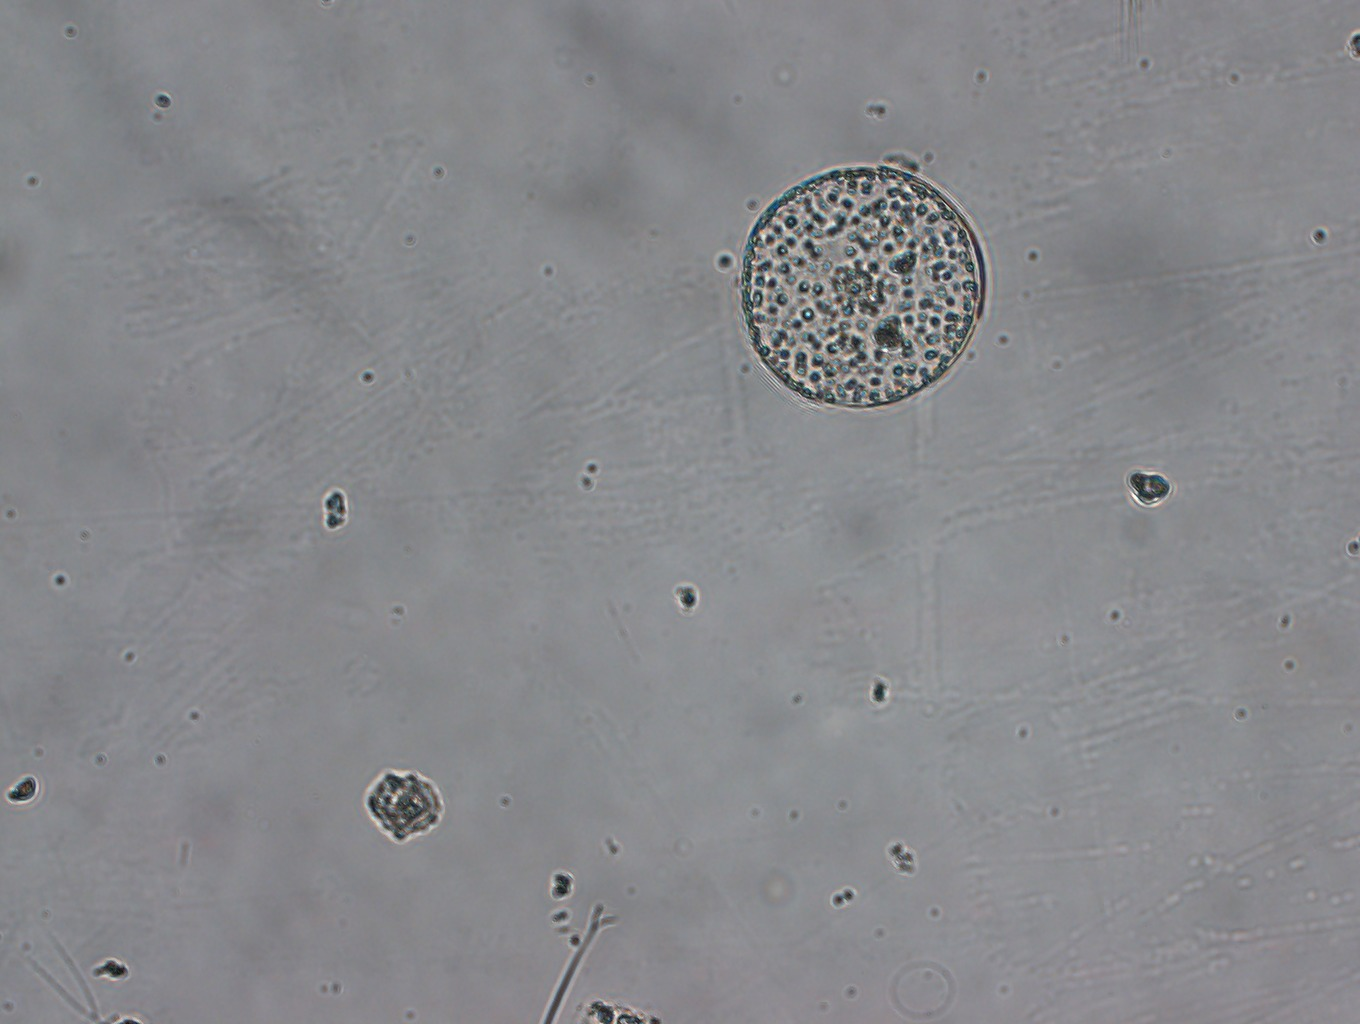coscinodiscus: (736, 163, 989, 413)
